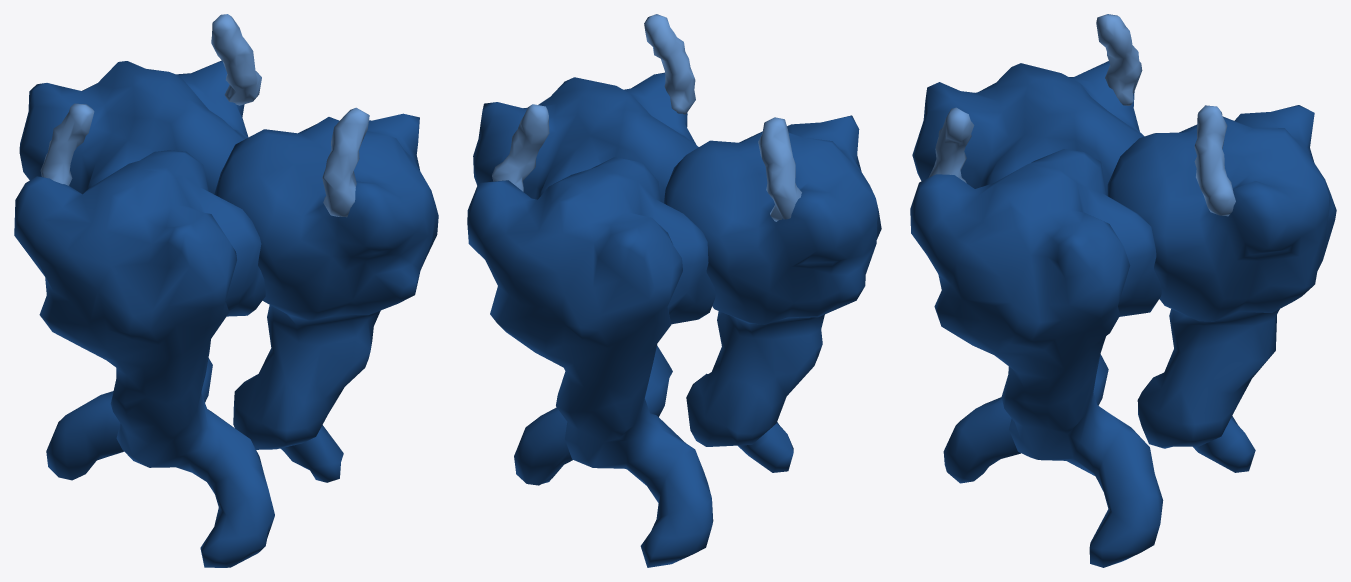
The model's file is MA_matrix_G1.fbx.
3 renders of one model, left to right at view 1: azimuth 30°, elevation 25°; view 2: azimuth 150°, elevation 25°; view 3: azimuth 270°, elevation 25°, orthographic. The views are drawn at different scales.
Parts seen in each view (by area): view 1: CoarseMS_1uphSuperC_Selection0_1, MSMS_MOL1uphSuperC_Selection1_1; view 2: CoarseMS_1uphSuperC_Selection0_1, MSMS_MOL1uphSuperC_Selection1_1; view 3: CoarseMS_1uphSuperC_Selection0_1, MSMS_MOL1uphSuperC_Selection1_1.
Part boxes in pixels (x1=…): CoarseMS_1uphSuperC_Selection0_1: x1=14, y1=60, x2=438, y2=567; MSMS_MOL1uphSuperC_Selection1_1: x1=40, y1=14, x2=369, y2=217; CoarseMS_1uphSuperC_Selection0_1: x1=467, y1=72, x2=881, y2=567; MSMS_MOL1uphSuperC_Selection1_1: x1=492, y1=14, x2=801, y2=221; CoarseMS_1uphSuperC_Selection0_1: x1=910, y1=61, x2=1336, y2=567; MSMS_MOL1uphSuperC_Selection1_1: x1=928, y1=14, x2=1235, y2=216.
Bounding box in the file's own units: 72.02 × 77.6 × 68.86.
